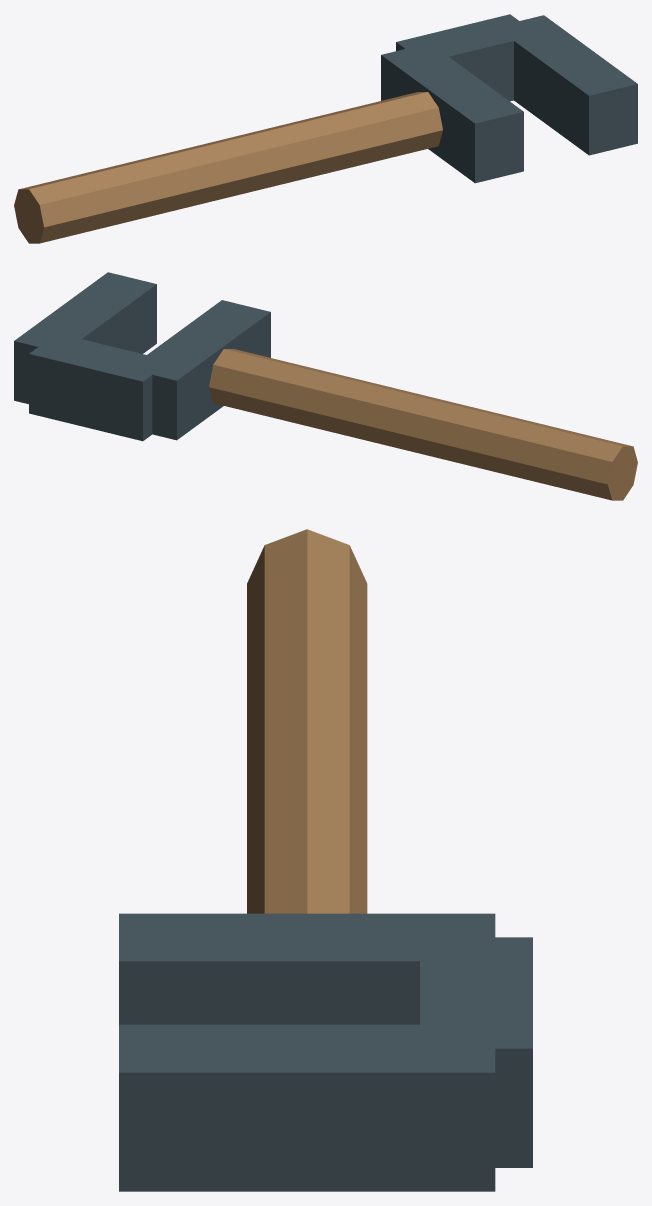
File: set_pliers.glb
3 renders of one model, top to bottom at view 1: azimuth 30°, elevation 25°; view 2: azimuth 150°, elevation 25°; view 3: azimuth 270°, elevation 25°, orthographic. The views are drawn at different scales.
Visible parts, largest first — view 1: set_pliers; view 2: set_pliers; view 3: set_pliers.
Boxes of the visible parts, x1,y1,x2,y2 form: set_pliers: (14, 14, 637, 243); set_pliers: (14, 272, 637, 500); set_pliers: (119, 529, 532, 1191).
Bounding box in the file's own units: 0.345 × 0.035 × 0.11.
